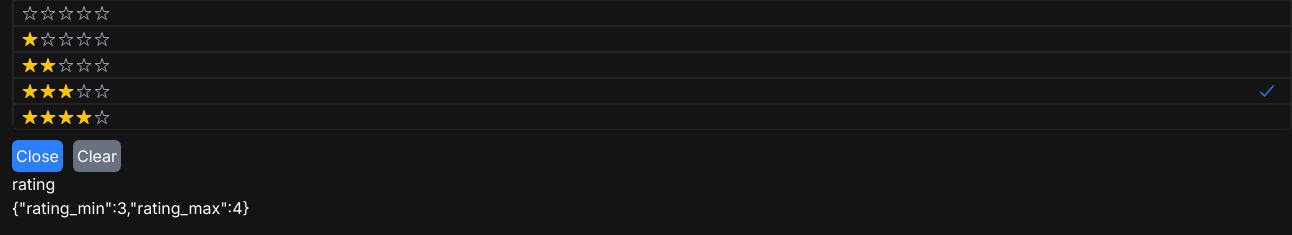
Test: RatingFilter › should clear rating filters
Click the button "Clear": {"x": 97, "y": 156} [73, 140, 121, 172]
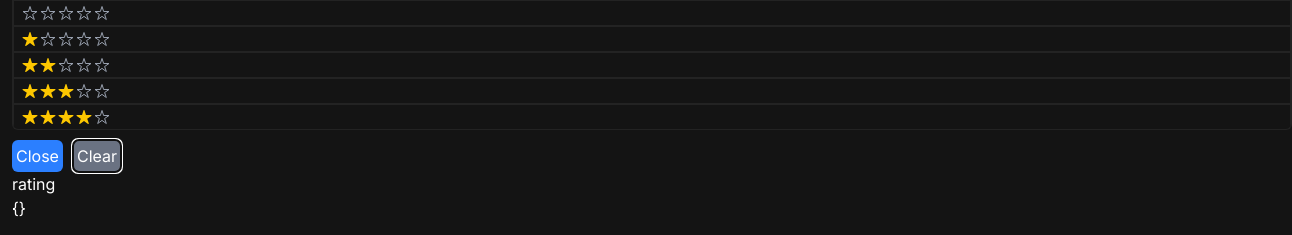
Now the text with test id "selected-filters" reads "{}", box [12, 198, 26, 218]
